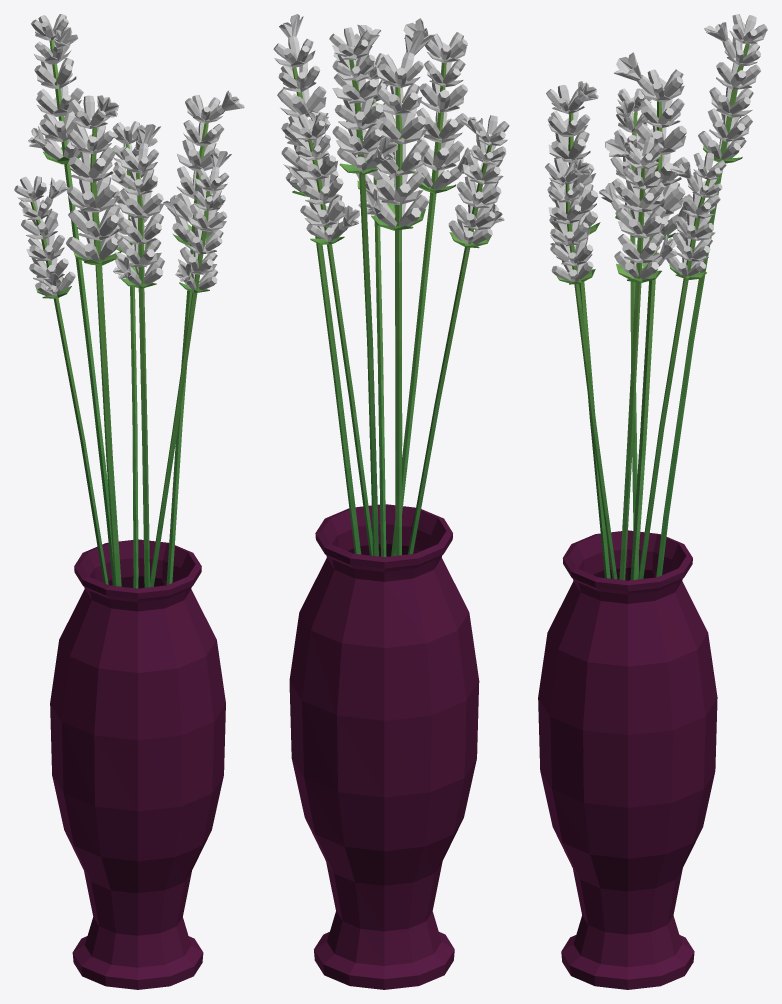
The model's file is lavender.obj.
3 views of the same model, side by side, from view 1: azimuth 30°, elevation 25°; view 2: azimuth 150°, elevation 25°; view 3: azimuth 270°, elevation 25° (orthographic). The views are drawn at different scales.
Parts seen in each view (by area): view 1: Jar, Lavender, Lavender.002, Lavender.006, Lavender.003, Lavender.005, Lavender.001, Lavender.004; view 2: Jar, Lavender, Lavender.006, Lavender.002, Lavender.004, Lavender.005, Lavender.001, Lavender.003; view 3: Jar, Lavender.001, Lavender.006, Lavender, Lavender.004, Lavender.003, Lavender.002, Lavender.005.
Part boxes in pixels (<box>): Jar: <box>50,539,225,989</box>; Lavender: <box>66,95,121,586</box>; Lavender.002: <box>113,124,164,587</box>; Lavender.006: <box>28,14,114,585</box>; Lavender.003: <box>150,151,231,587</box>; Lavender.005: <box>14,176,108,584</box>; Lavender.001: <box>163,90,244,584</box>; Lavender.004: <box>111,121,157,588</box>; Jar: <box>289,504,479,989</box>; Lavender: <box>358,30,434,555</box>; Lavender.006: <box>329,24,397,556</box>; Lavender.002: <box>391,18,478,556</box>; Lavender.004: <box>288,111,372,555</box>; Lavender.005: <box>407,115,509,554</box>; Lavender.001: <box>273,14,361,554</box>; Lavender.003: <box>333,43,394,556</box>; Jar: <box>538,530,717,989</box>; Lavender.001: <box>605,133,677,580</box>; Lavender.006: <box>656,14,767,577</box>; Lavender: <box>614,52,692,580</box>; Lavender.004: <box>638,152,726,579</box>; Lavender.003: <box>545,158,617,579</box>; Lavender.002: <box>546,81,610,578</box>; Lavender.005: <box>599,88,651,579</box>.
Bounding box in the file's own units: 13.35 × 53.52 × 12.
